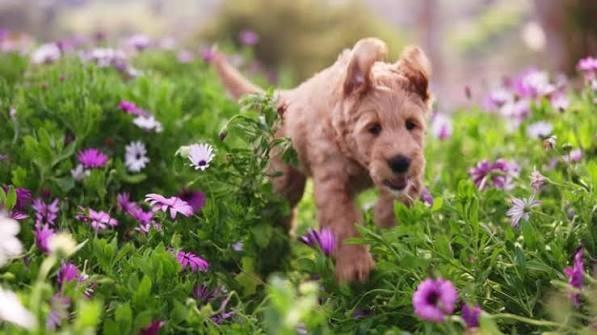puppy-dog: (206, 37, 434, 290)
